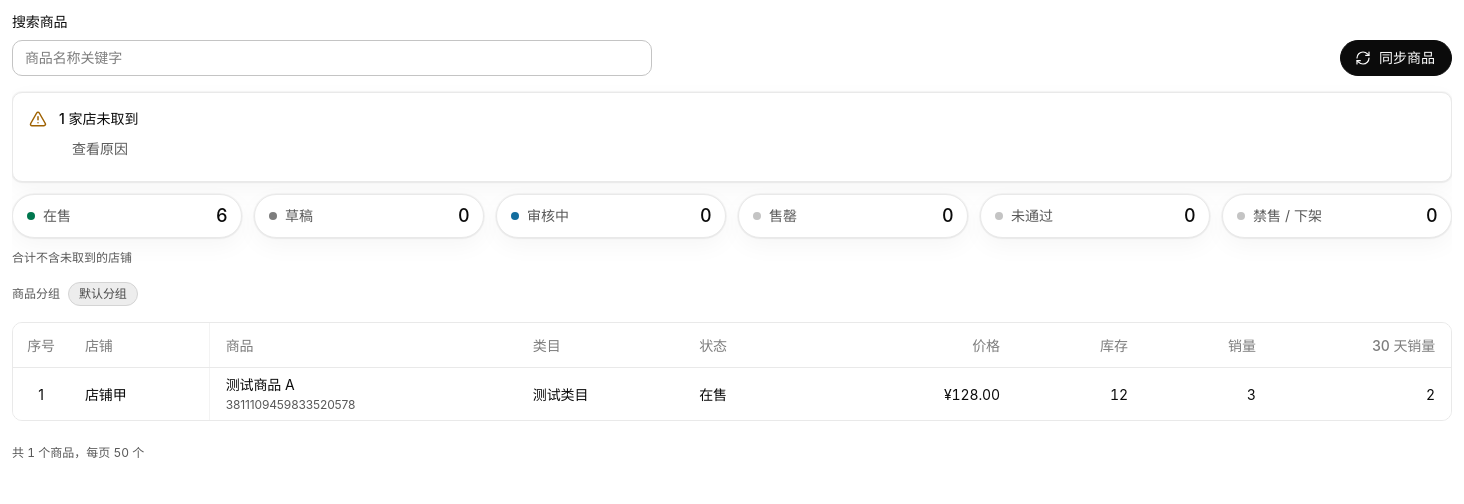
it: 商品聚合页 › 部分店铺计数失败：提示 N 家店未取到，可展开原因
Expected: the text "1 家店未取到" is shown, [59,110,138,127]
Expected: the text "合计不含未取到的店铺" is shown, [12,250,132,266]
Click the button "查看原因" at (100, 149), box [59,133,141,165]
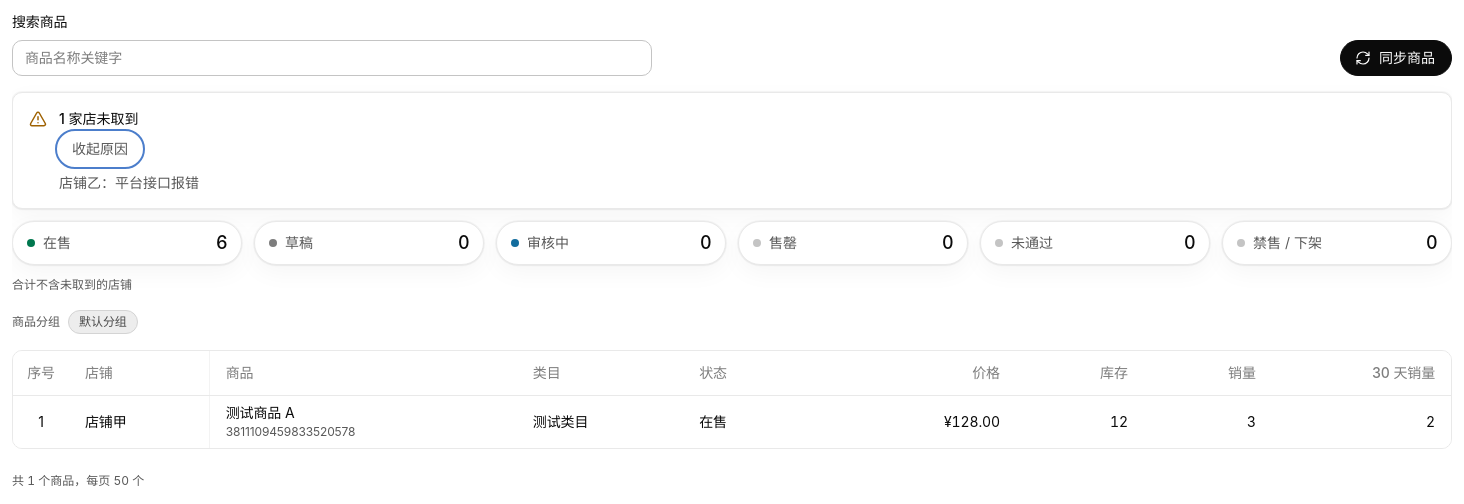
Expected: the list item reads "店铺乙：平台接口报错", [59,174,199,191]
